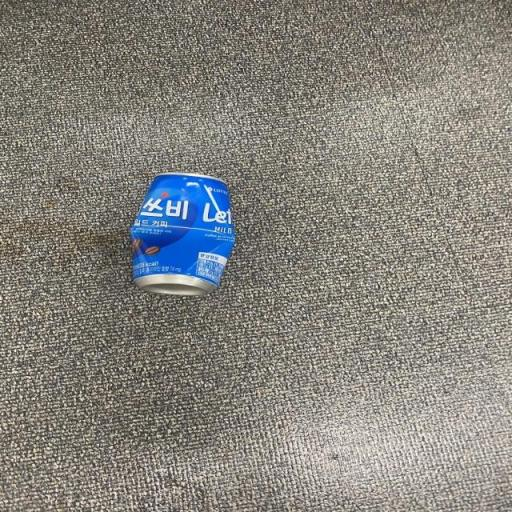metal: (69, 162, 291, 308)
